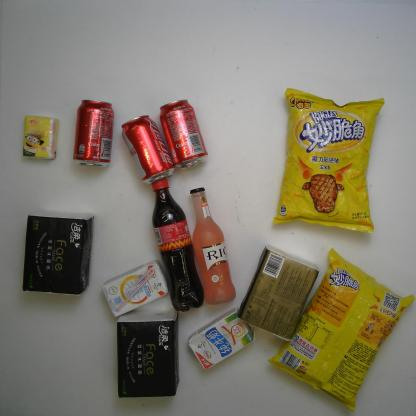Alcohol: (188, 184, 236, 306)
Drink: (150, 178, 204, 314), (120, 115, 175, 185), (159, 98, 209, 171), (71, 98, 115, 169)
Milk: (188, 307, 256, 373), (101, 260, 169, 319)
Puffed Food: (263, 246, 415, 413), (271, 86, 386, 237)
Tissue: (236, 243, 322, 344), (20, 206, 95, 297), (115, 311, 182, 398), (21, 114, 60, 160)
